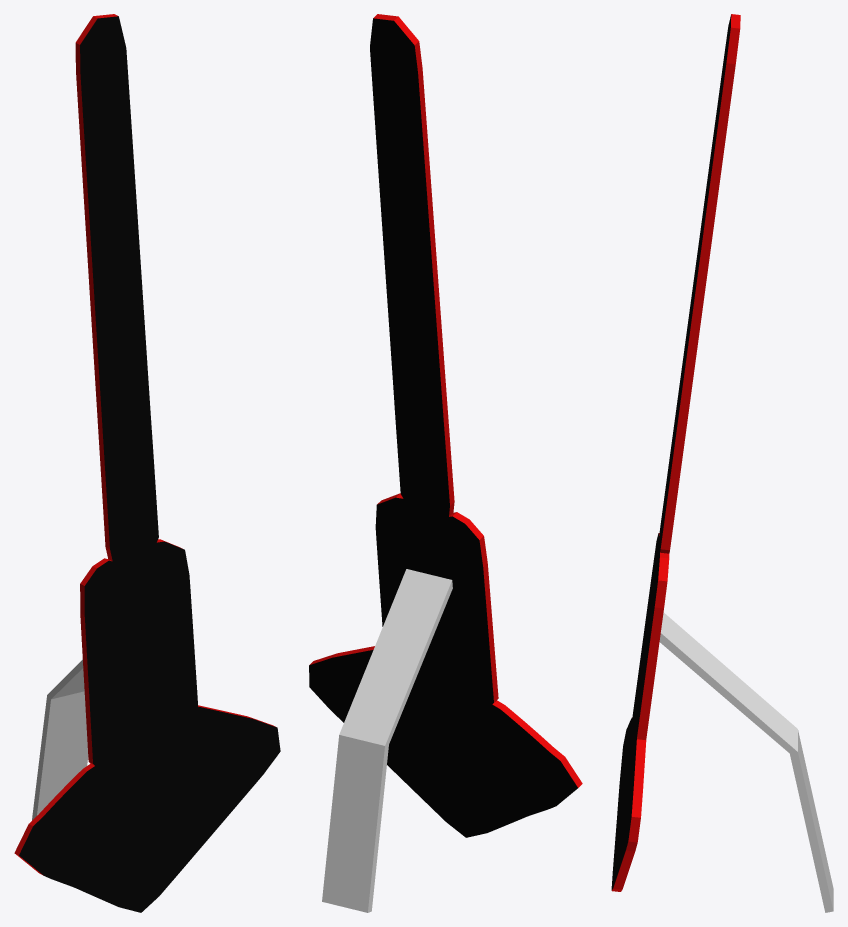
The model's file is charging station cardboard.fbx.
3 renders of one model, left to right at view 1: azimuth 30°, elevation 25°; view 2: azimuth 150°, elevation 25°; view 3: azimuth 270°, elevation 25°, orthographic. The views are drawn at different scales.
Parts seen in each view (by area): view 1: path1, Plane; view 2: path1, Plane; view 3: path1, Plane.
Boxes of the visible parts, left/top/right/bottom form: path1: left=14, top=14, right=280, bottom=912; Plane: left=32, top=659, right=88, bottom=820; path1: left=309, top=14, right=582, bottom=837; Plane: left=322, top=569, right=452, bottom=912; path1: left=611, top=14, right=740, bottom=891; Plane: left=659, top=612, right=833, bottom=912.
Size of the model in its own units: 1162 by 3570 by 812.
